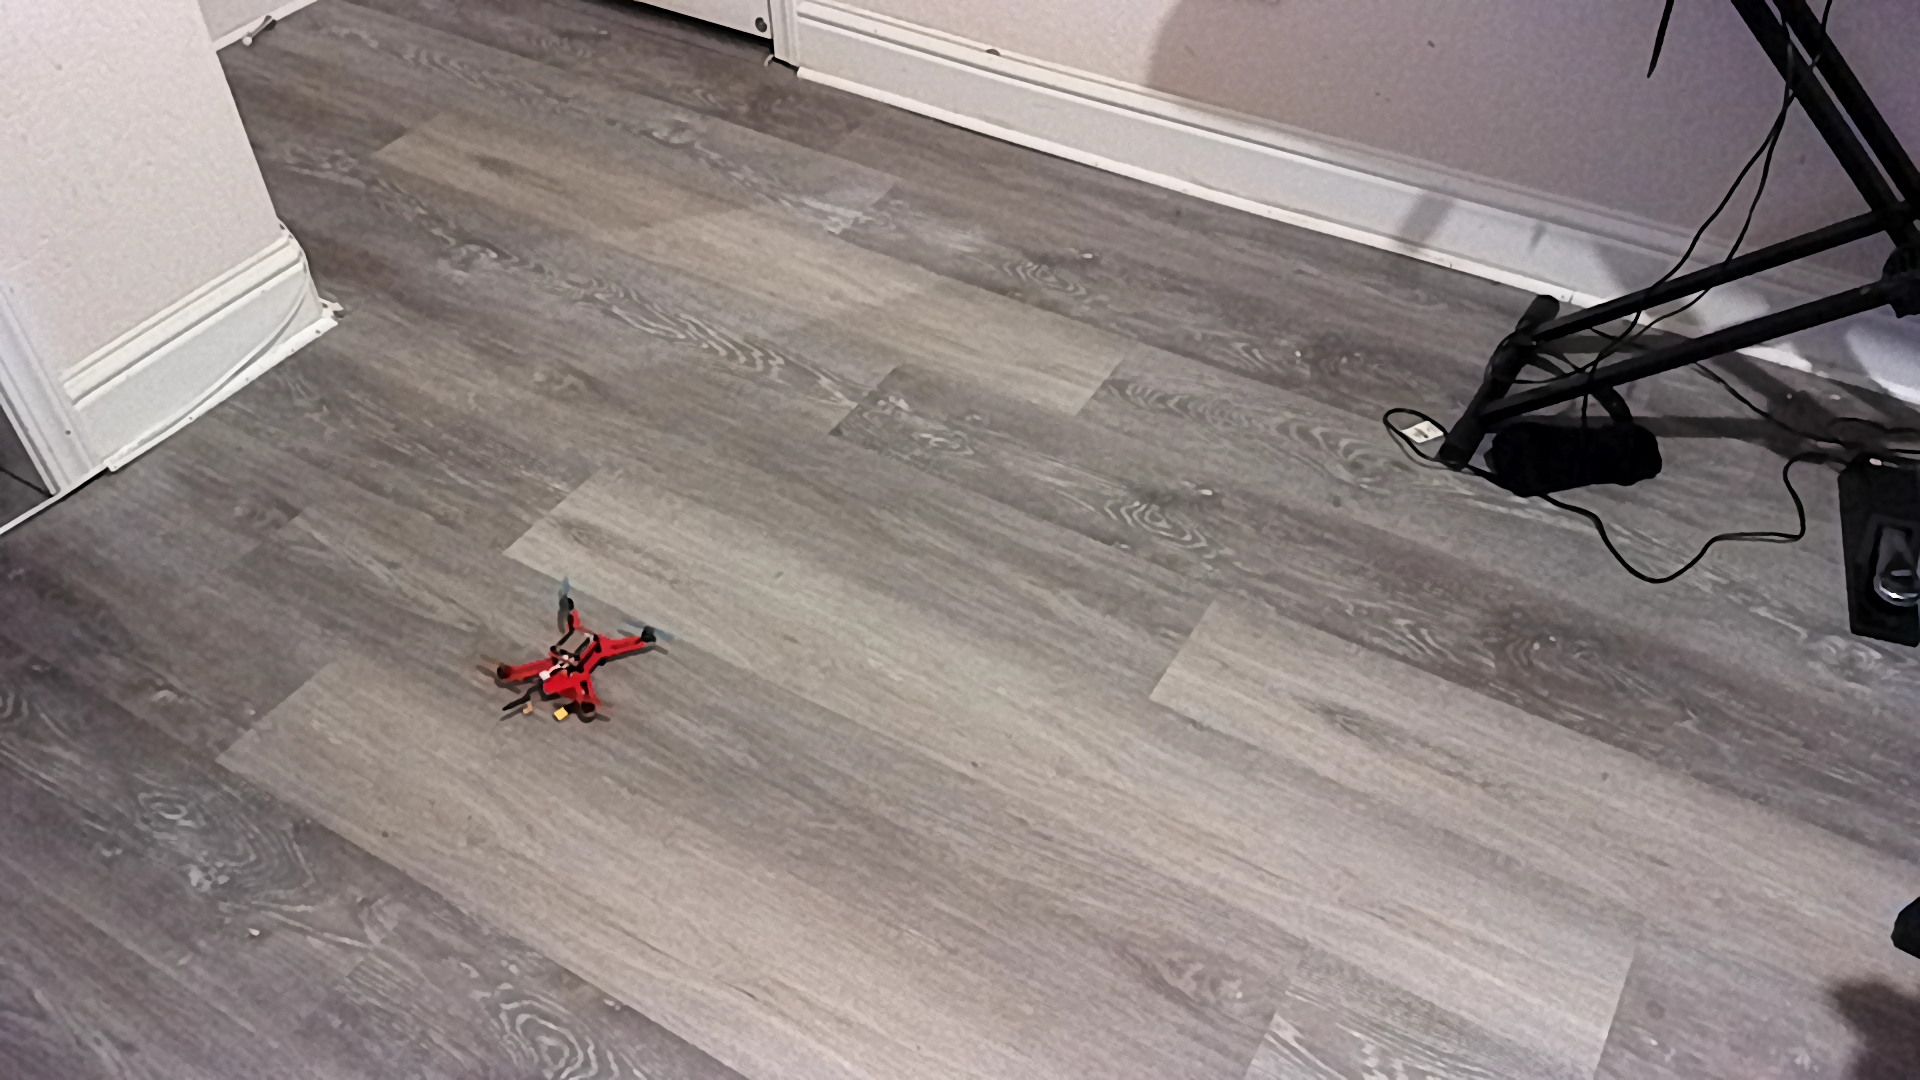drone: (469, 574, 683, 749)
